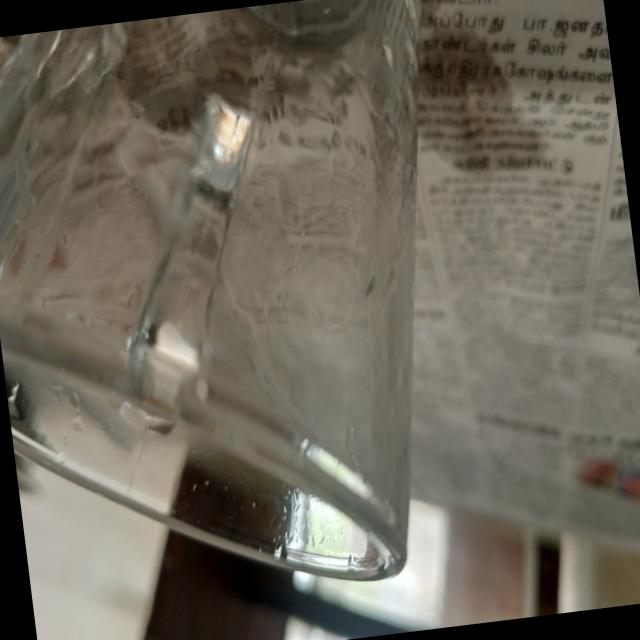glass-VX4N: (0, 0, 497, 621)
